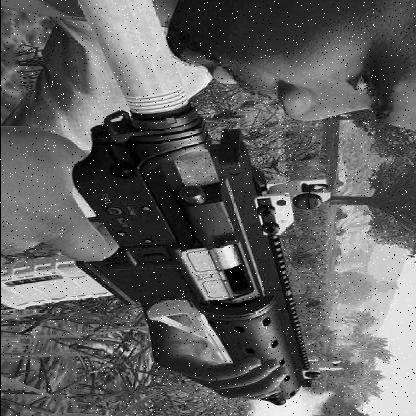rifle: (1, 1, 343, 411)
